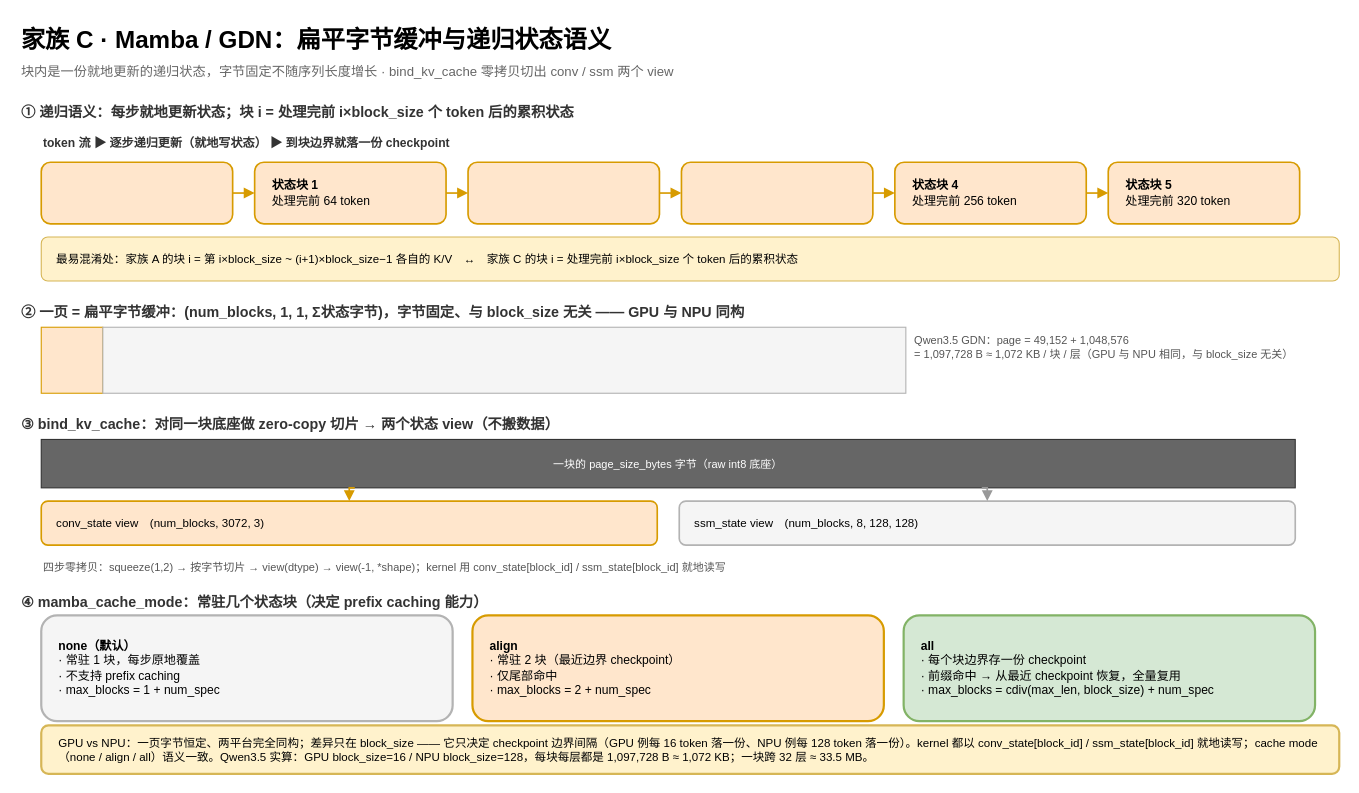
This 1359x793 diagram has some shape labels left out. Each missing label, with the centre of its shape:
"conv_state 49,152 B" goes at (x=71, y=359).
"ssm_state（32, 128, 128） · bf16 = 1,048,576 B" goes at (x=504, y=359).
"状态块 0 处理完前 0 token" goes at (x=136, y=192).
"状态块 2 处理完前 128 token" goes at (x=563, y=192).
"状态块 3 处理完前 192 token" goes at (x=776, y=192).
